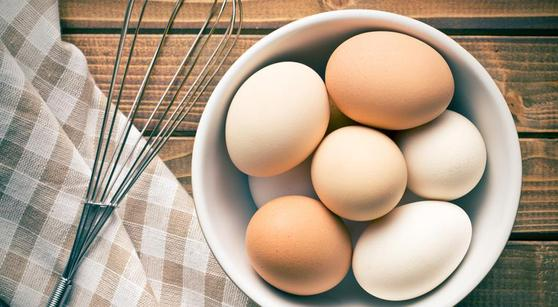egg: (220, 61, 326, 172)
